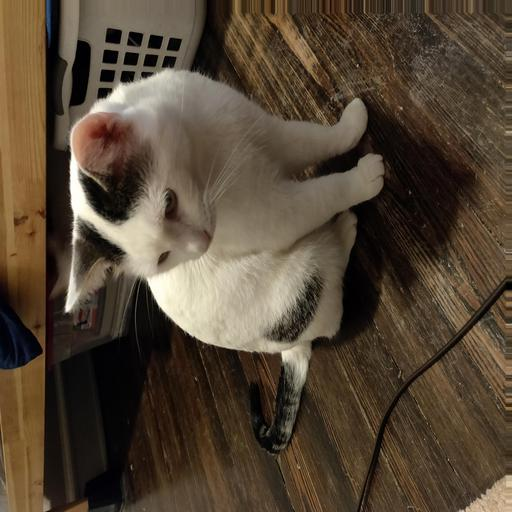cat: (62, 72, 350, 360)
